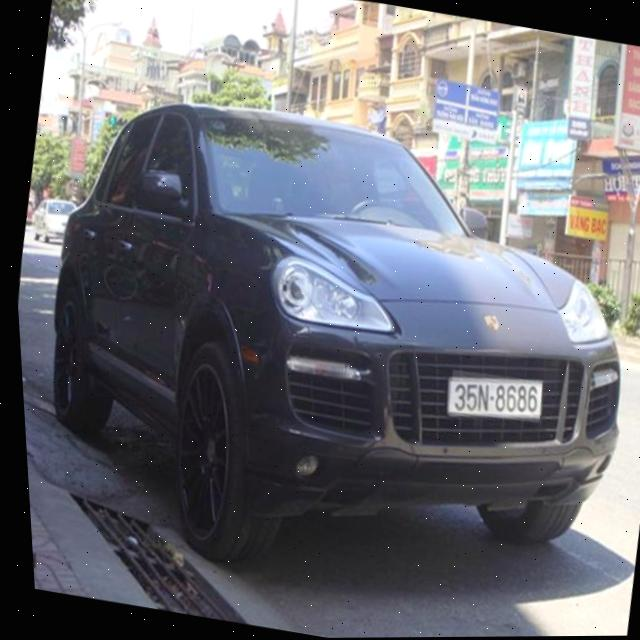car: (4, 68, 640, 629)
plate: (437, 361, 553, 434)
